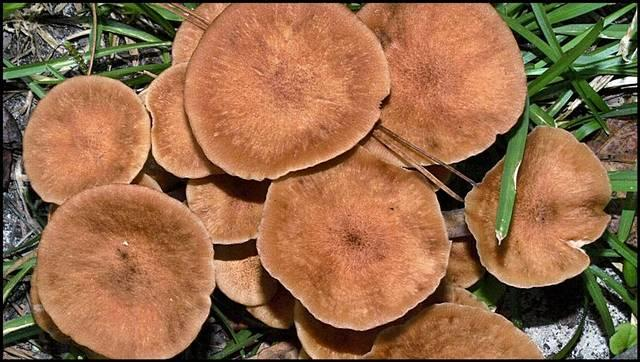Edible Mushroom: (21, 2, 611, 358), (30, 182, 216, 359), (463, 124, 612, 289)
